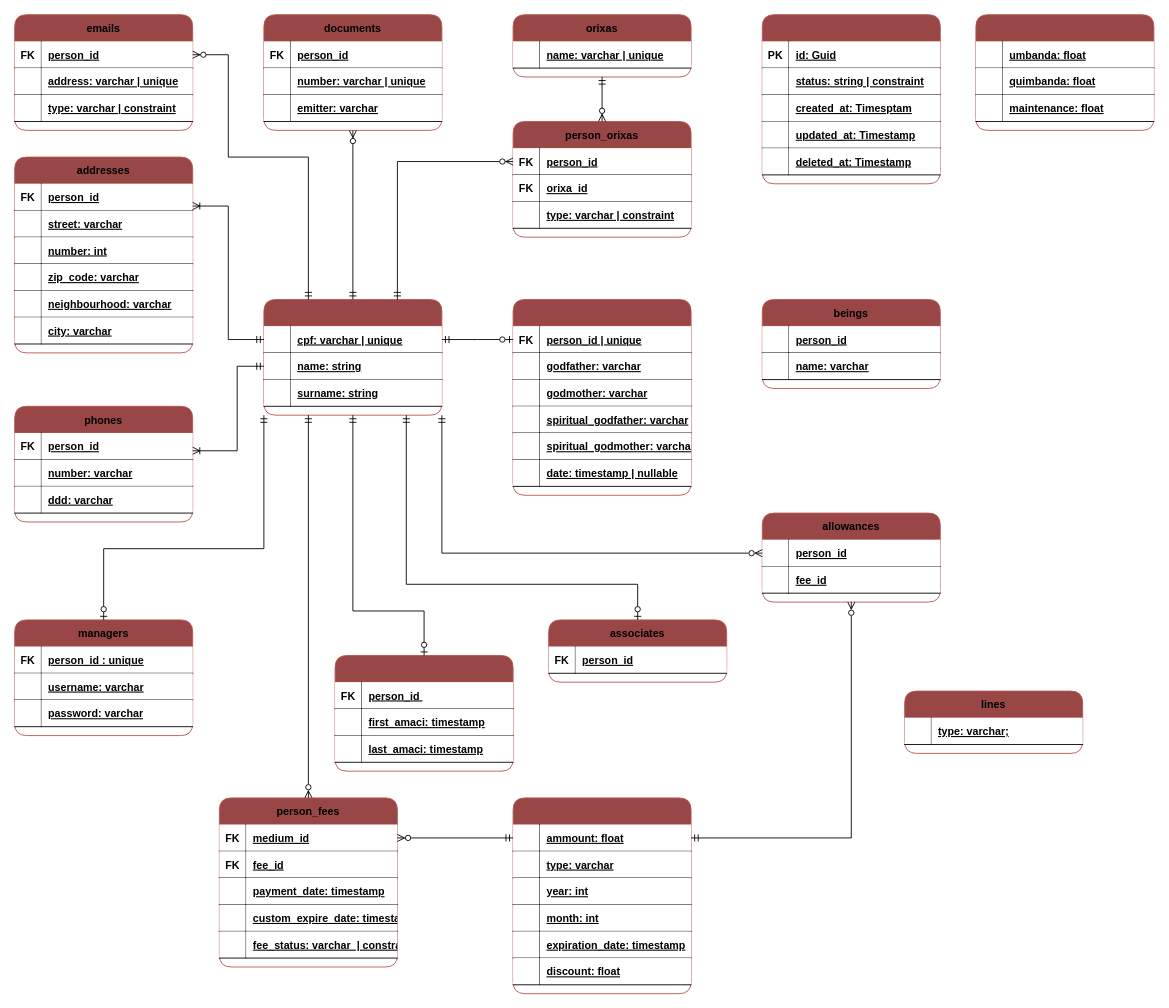
Image size: 1169x1008. Some labels were removed from this diagram. The box of each missing label's shape, as (x1, y1, x2, y2) in pixels:
baptisms: (512, 299, 691, 495)
base: (761, 14, 940, 184)
fee_values: (975, 14, 1154, 130)
fees: (512, 797, 691, 994)
mediums: (334, 655, 513, 771)
persons: (263, 299, 442, 415)
